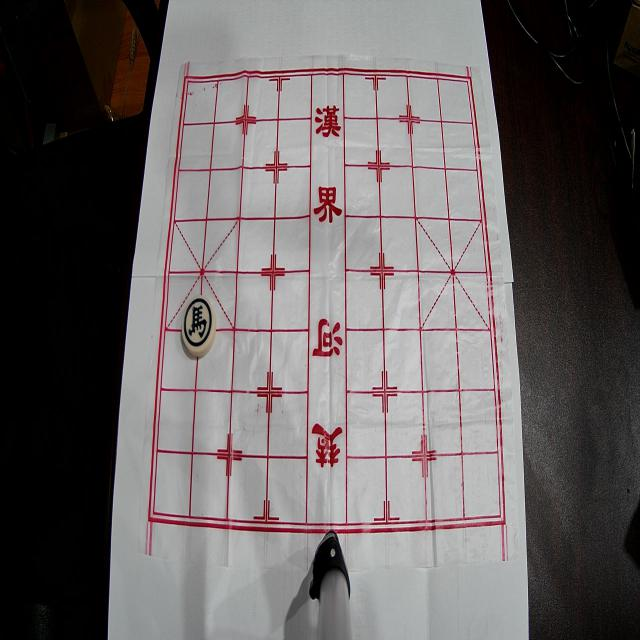black-horse: (182, 295, 216, 357)
